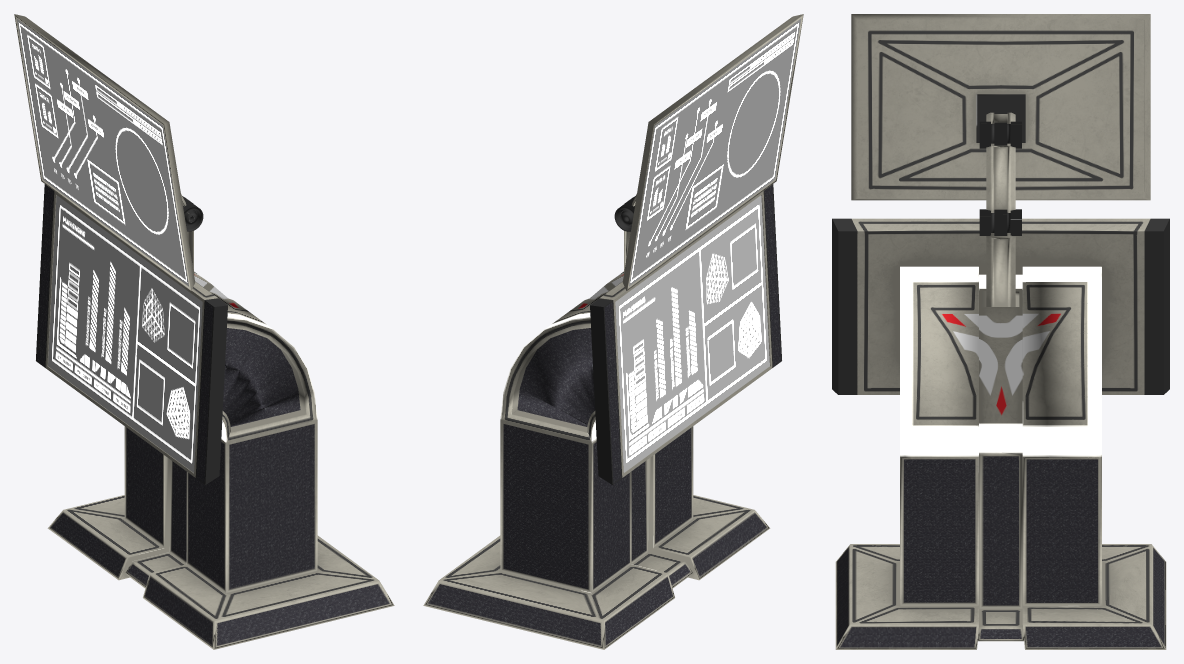
Rendered from SM_InfoPult-1.fbx.
The picture shows the model from 3 angles, left to right: view 1: azimuth 30°, elevation 25°; view 2: azimuth 150°, elevation 25°; view 3: azimuth 270°, elevation 25°; orthographic projection.
Parts seen in each view (by area): view 1: SM_InfoPult-1_LOD0; view 2: SM_InfoPult-1_LOD0; view 3: SM_InfoPult-1_LOD0.
Part boxes in pixels (left/top/right/bottom): SM_InfoPult-1_LOD0: left=14, top=14, right=394, bottom=649; SM_InfoPult-1_LOD0: left=423, top=14, right=803, bottom=649; SM_InfoPult-1_LOD0: left=832, top=14, right=1169, bottom=649.
Size of the model in its own units: 120 by 275 by 159.
Materials: 3 (1 with a texture image).
